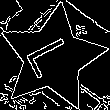L_NE: (22, 33, 82, 83)
